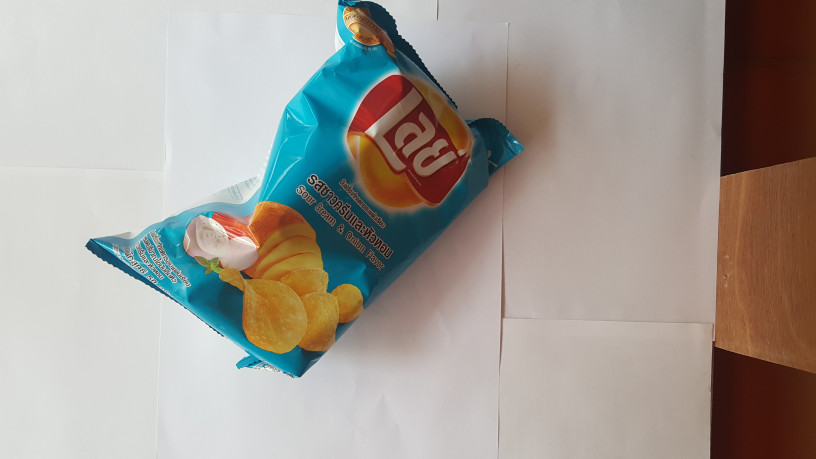lays-onion: (104, 1, 530, 407)
